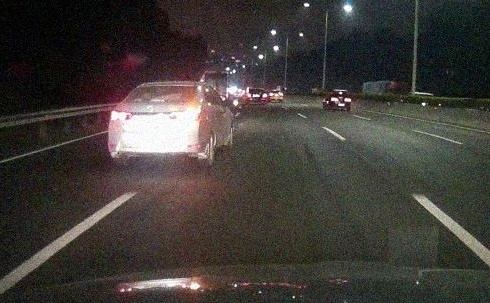L_light: (111, 111, 132, 121)
R_light: (174, 110, 199, 119)
T_light: (150, 99, 165, 103)
night-no: (107, 80, 201, 165)
